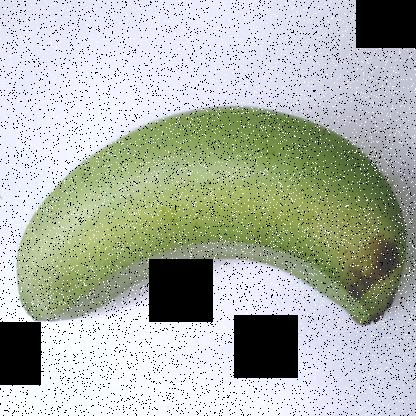freshunripe: (5, 78, 408, 344)
